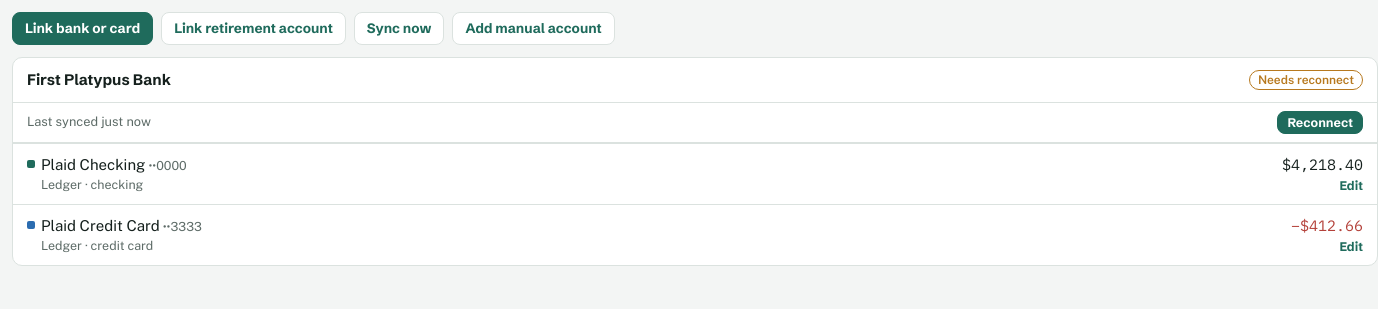
it: AccountsView › offers Reconnect for a broken login and finishes with a sync (update mode, no exchange)
Expected: the text "Needs reconnect" is shown, x1=1249 y1=70 x2=1363 y2=90
Click the button "Reconnect" at (1320, 122), box x1=1277 y1=111 x2=1363 y2=134
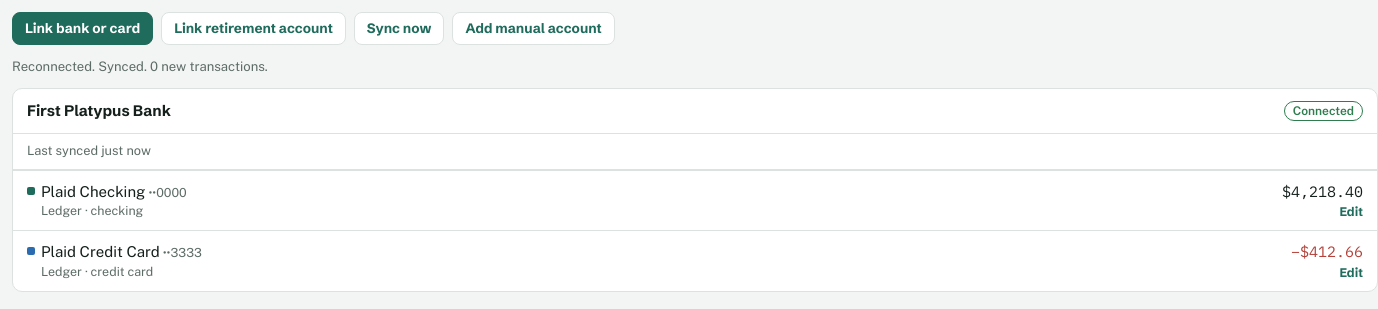
Expected: the text "Reconnected. Synced. 0 new transactions." is shown, x1=12 y1=59 x2=268 y2=74
Expected: the text "Connected" is shown, x1=1284 y1=101 x2=1363 y2=121
